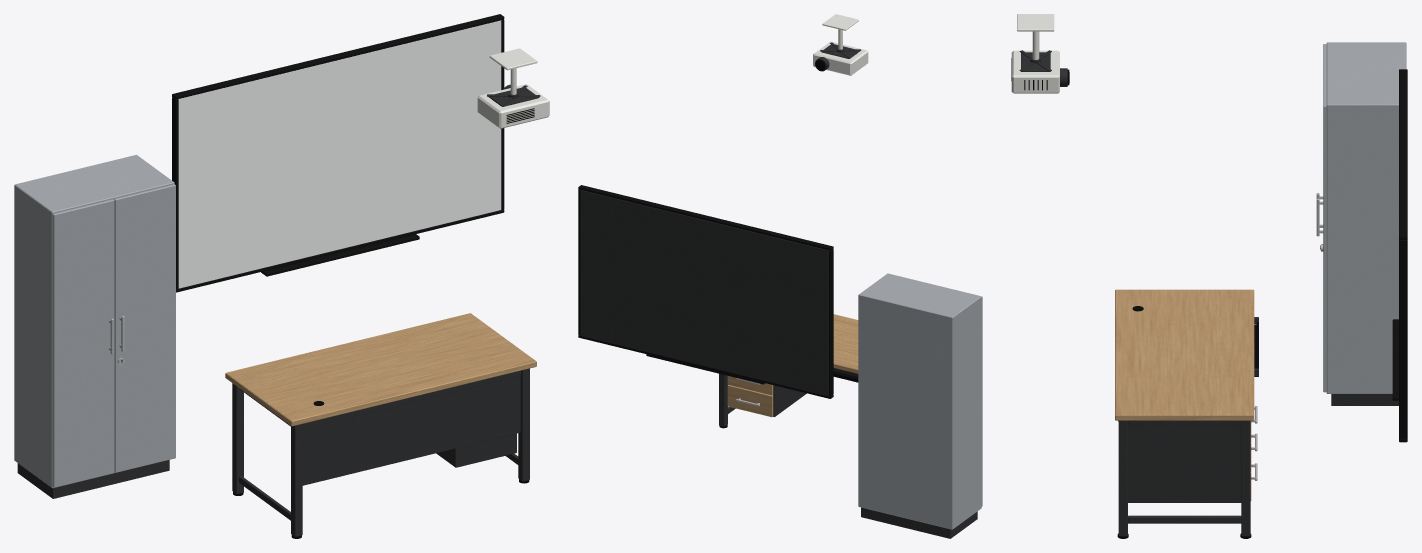
Rendered from TeacherStation.fbx.
3 renders of one model, left to right at view 1: azimuth 30°, elevation 25°; view 2: azimuth 150°, elevation 25°; view 3: azimuth 270°, elevation 25°, orthographic. The views are drawn at different scales.
Parts seen in each view (by area): view 1: Board_Surface, Desk_Frame, Desk_Top, Cabinet_Door_Left, Cabinet_Door_Right, Cabinet_Body, Board_Frame, Cabinet_Plinth, Projector_Body, Desk_Pedestal, Board_PenTray, Mount_CeilingPlate; view 2: Board_BackPanel, Cabinet_Body, Board_Frame, Desk_DrawerFronts, Desk_Top, Cabinet_Plinth, Projector_Body, Desk_Frame, Desk_Pedestal; view 3: Cabinet_Body, Desk_Top, Desk_Pedestal, Desk_Frame, Board_Frame, Projector_Body, Cabinet_Door_Right, Cabinet_Plinth, Mount_CeilingPlate, Mount_Head, Board_PenTray.
Part boxes in pixels (left/top/right/bottom): Board_Surface: left=178, top=20, right=501, bottom=288; Desk_Frame: left=232, top=368, right=529, bottom=536; Desk_Top: left=225, top=313, right=536, bottom=426; Cabinet_Door_Left: left=52, top=199, right=114, bottom=487; Cabinet_Door_Right: left=114, top=184, right=175, bottom=472; Cabinet_Body: left=14, top=155, right=174, bottom=488; Board_Frame: left=172, top=14, right=504, bottom=292; Cabinet_Plinth: left=17, top=460, right=169, bottom=498; Projector_Body: left=477, top=84, right=549, bottom=128; Desk_Pedestal: left=436, top=433, right=516, bottom=467; Board_PenTray: left=261, top=234, right=419, bottom=276; Mount_CeilingPlate: left=489, top=48, right=537, bottom=70; Board_BackPanel: left=580, top=190, right=828, bottom=395; Cabinet_Body: left=858, top=273, right=981, bottom=529; Board_Frame: left=578, top=185, right=833, bottom=398; Desk_DrawerFronts: left=727, top=376, right=773, bottom=417; Desk_Top: left=833, top=314, right=858, bottom=373; Cabinet_Plinth: left=861, top=507, right=977, bottom=538; Projector_Body: left=813, top=41, right=868, bottom=75; Desk_Frame: left=719, top=368, right=858, bottom=426; Desk_Pedestal: left=773, top=385, right=806, bottom=416; Cabinet_Body: left=1326, top=42, right=1406, bottom=393; Desk_Top: left=1115, top=289, right=1254, bottom=420; Desk_Pedestal: left=1128, top=425, right=1241, bottom=502; Desk_Frame: left=1118, top=420, right=1250, bottom=536; Board_Frame: left=1399, top=69, right=1407, bottom=442; Projector_Body: left=1011, top=50, right=1059, bottom=93; Cabinet_Door_Right: left=1323, top=75, right=1326, bottom=392; Cabinet_Plinth: left=1331, top=394, right=1398, bottom=405; Mount_CeilingPlate: left=1017, top=14, right=1054, bottom=31; Mount_Head: left=1019, top=50, right=1051, bottom=71; Board_PenTray: left=1392, top=319, right=1398, bottom=400.
Bounding box in the file's own units: 317 × 290 × 213.
9 materials, 4 textured.
